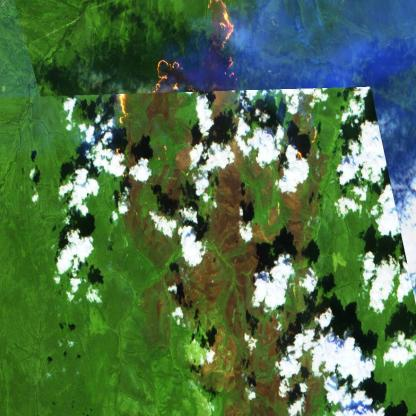fire: (205, 0, 236, 48), (152, 52, 184, 94), (112, 136, 127, 183), (152, 138, 171, 170), (115, 87, 130, 127), (224, 54, 236, 82)
